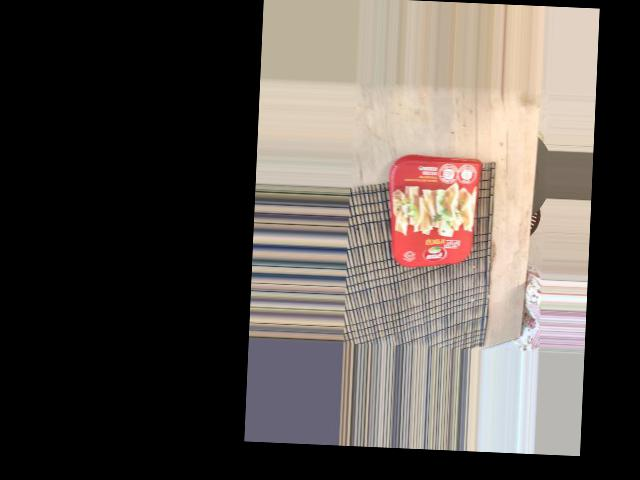cheese: (394, 150, 475, 268)
